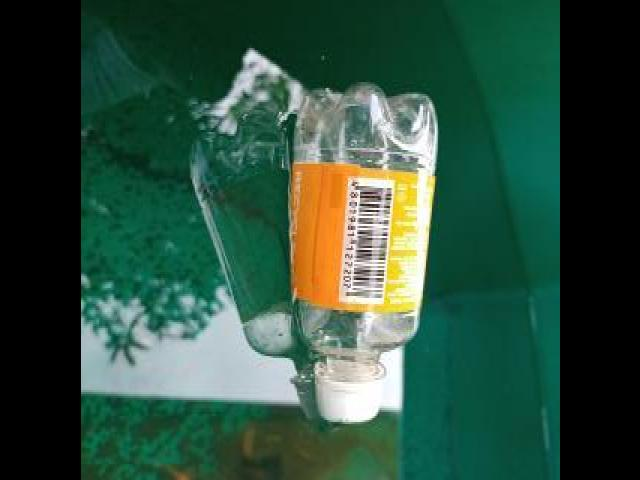Bottle: (277, 75, 445, 434)
